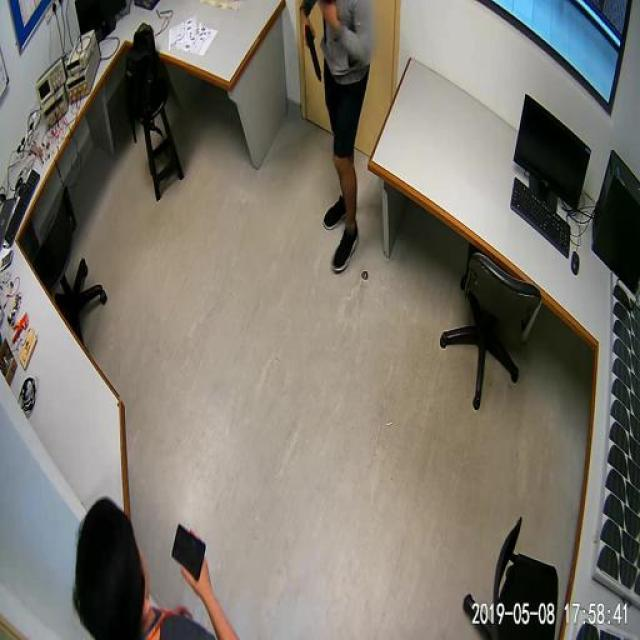Gun: (293, 20, 329, 90)
